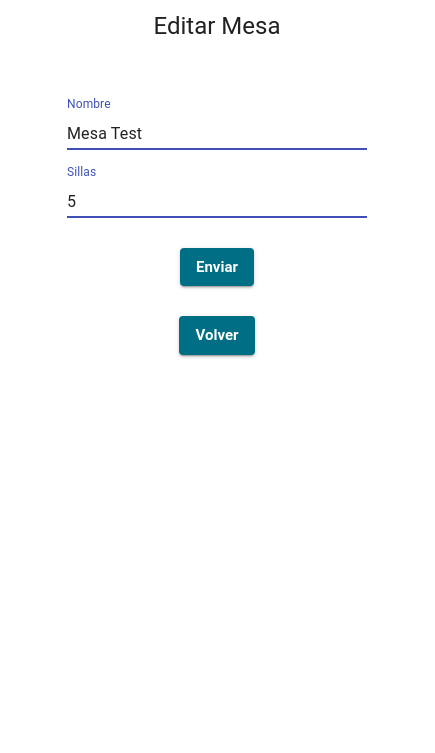
Test: Render test UpdateBarTable › Incorrect Submit to update a BarTable
Clear the field labelled "Nombre". click: (217, 134)
box: 67,118 -> 367,150
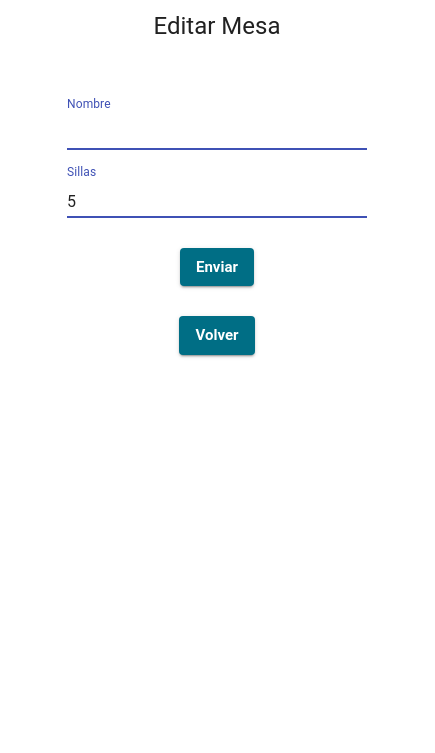
Clear the number field labelled "Sillas". click: (217, 202)
box: 67,186 -> 367,218
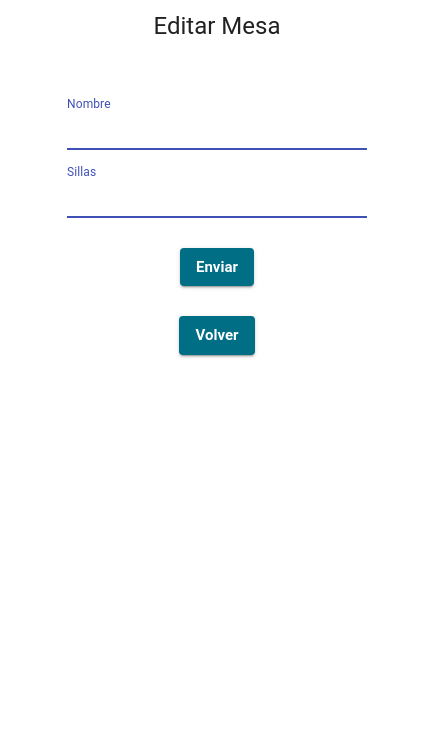
Click the button "Enviar". click: (217, 267)
box: 180,248 -> 254,286
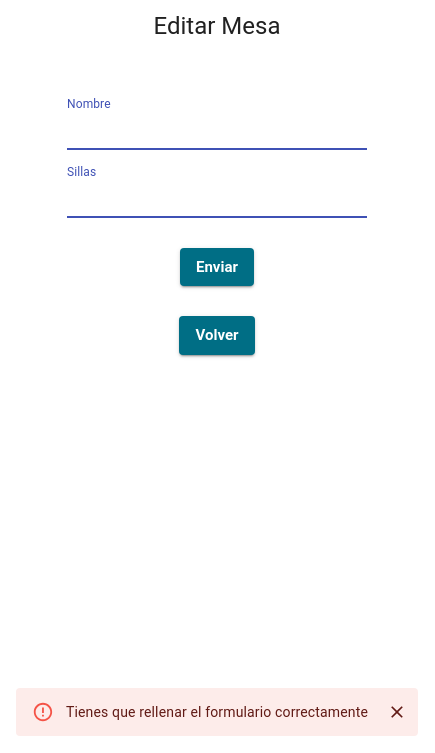
Now the text "Tienes que rellenar el formulario correctamente" is shown, box 66,704 -> 368,720
